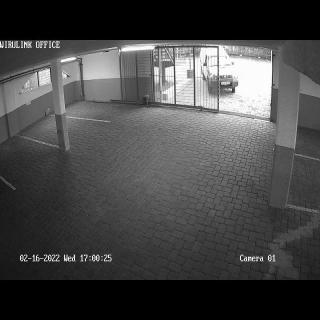car: (200, 46, 239, 91)
